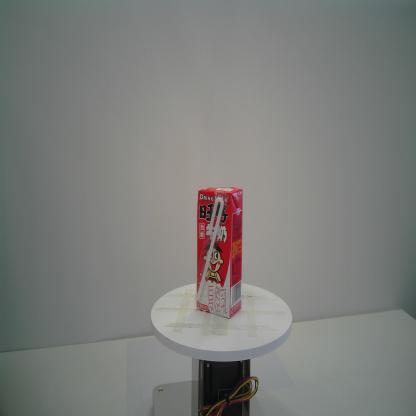Milk: (194, 183, 244, 321)
